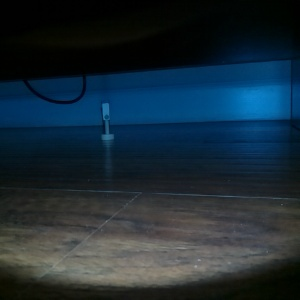traffic light green: (97, 98, 115, 141)
